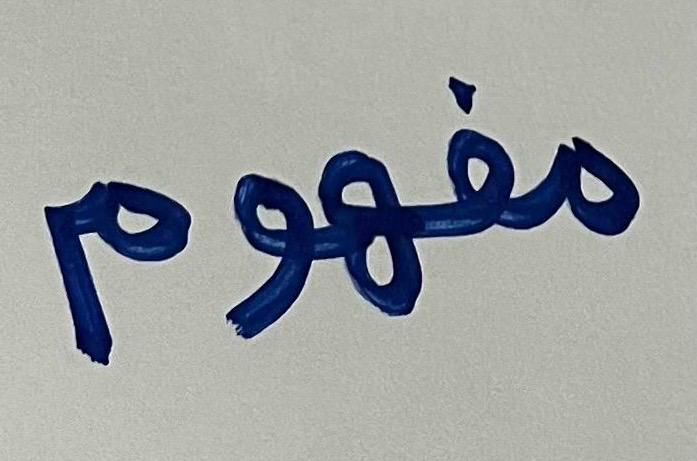feh: (430, 41, 522, 285)
heh: (319, 114, 426, 342)
meem: (9, 105, 199, 401), (526, 92, 656, 278)
waw: (205, 146, 315, 359)
